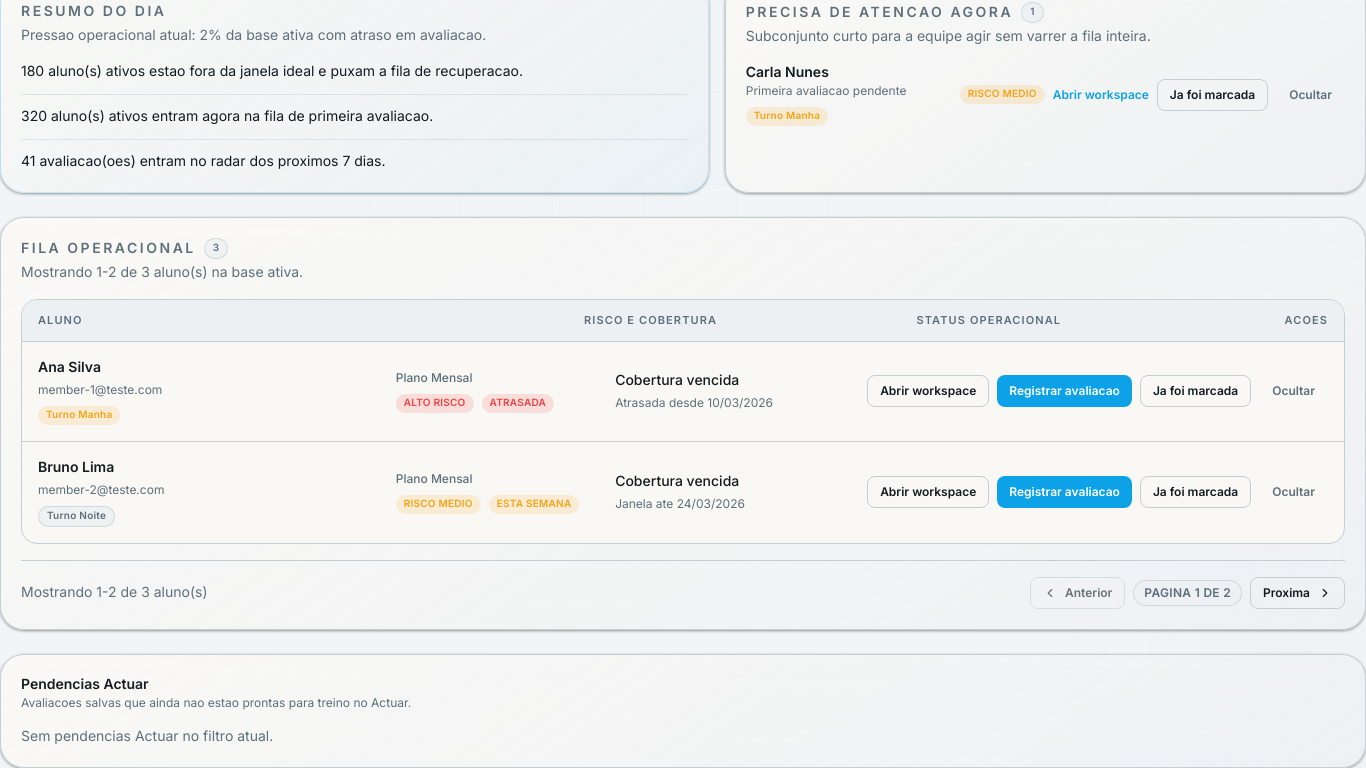
Test: AssessmentsPage › uses server-side search and paginates through the queue
This screenshot has width=1366, height=768.
(page scrolled)
Expected: the text "Ana Silva" is shown, [38,358,101,376]
Click the button "Proxima".
click(1298, 592)  # box [1250,576,1345,608]
(page scrolled)
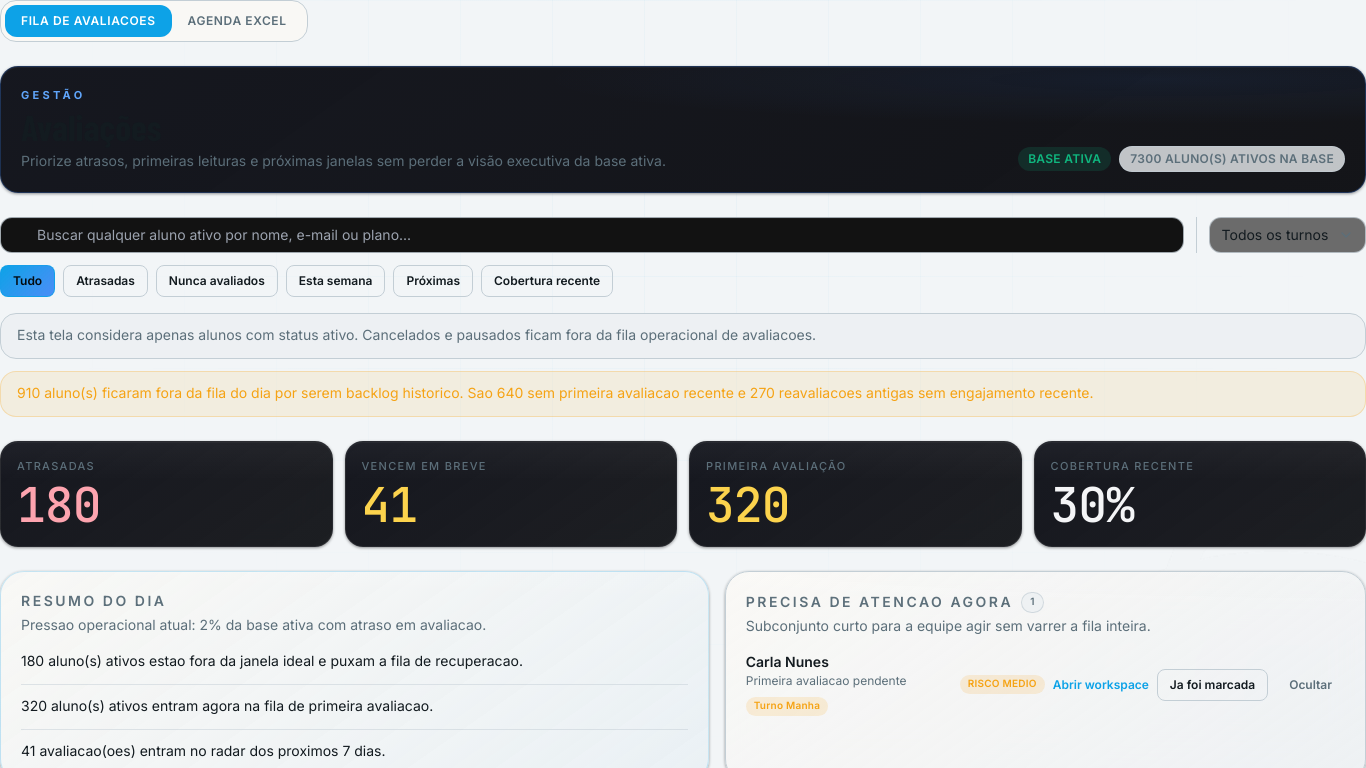
Type "Erick" into the field with placeholder "Buscar qualquer aluno ativo por nome, e-mail ou plano...".
click(592, 234); type("Erick")  # box [0,216,1184,252]
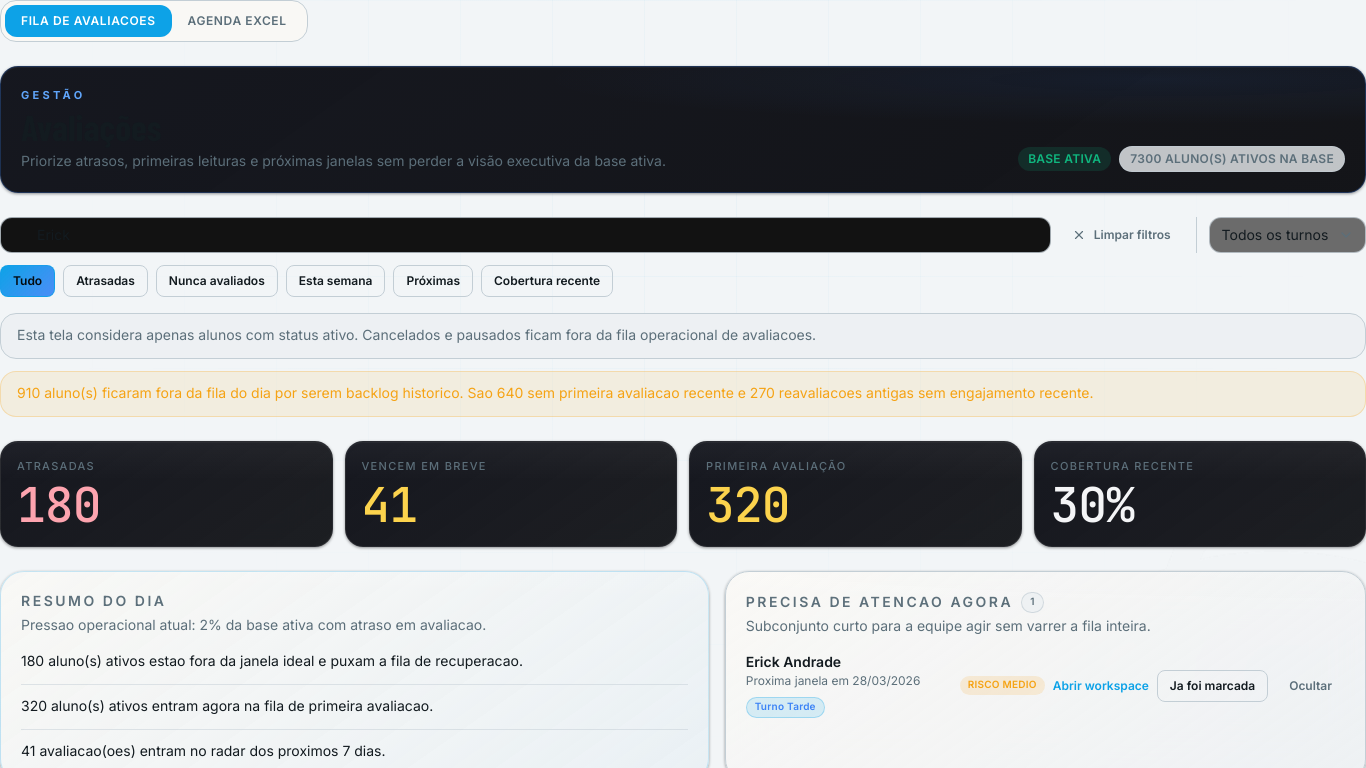
Expected: the text "Erick Andrade" is shown, [746,654,841,671]
